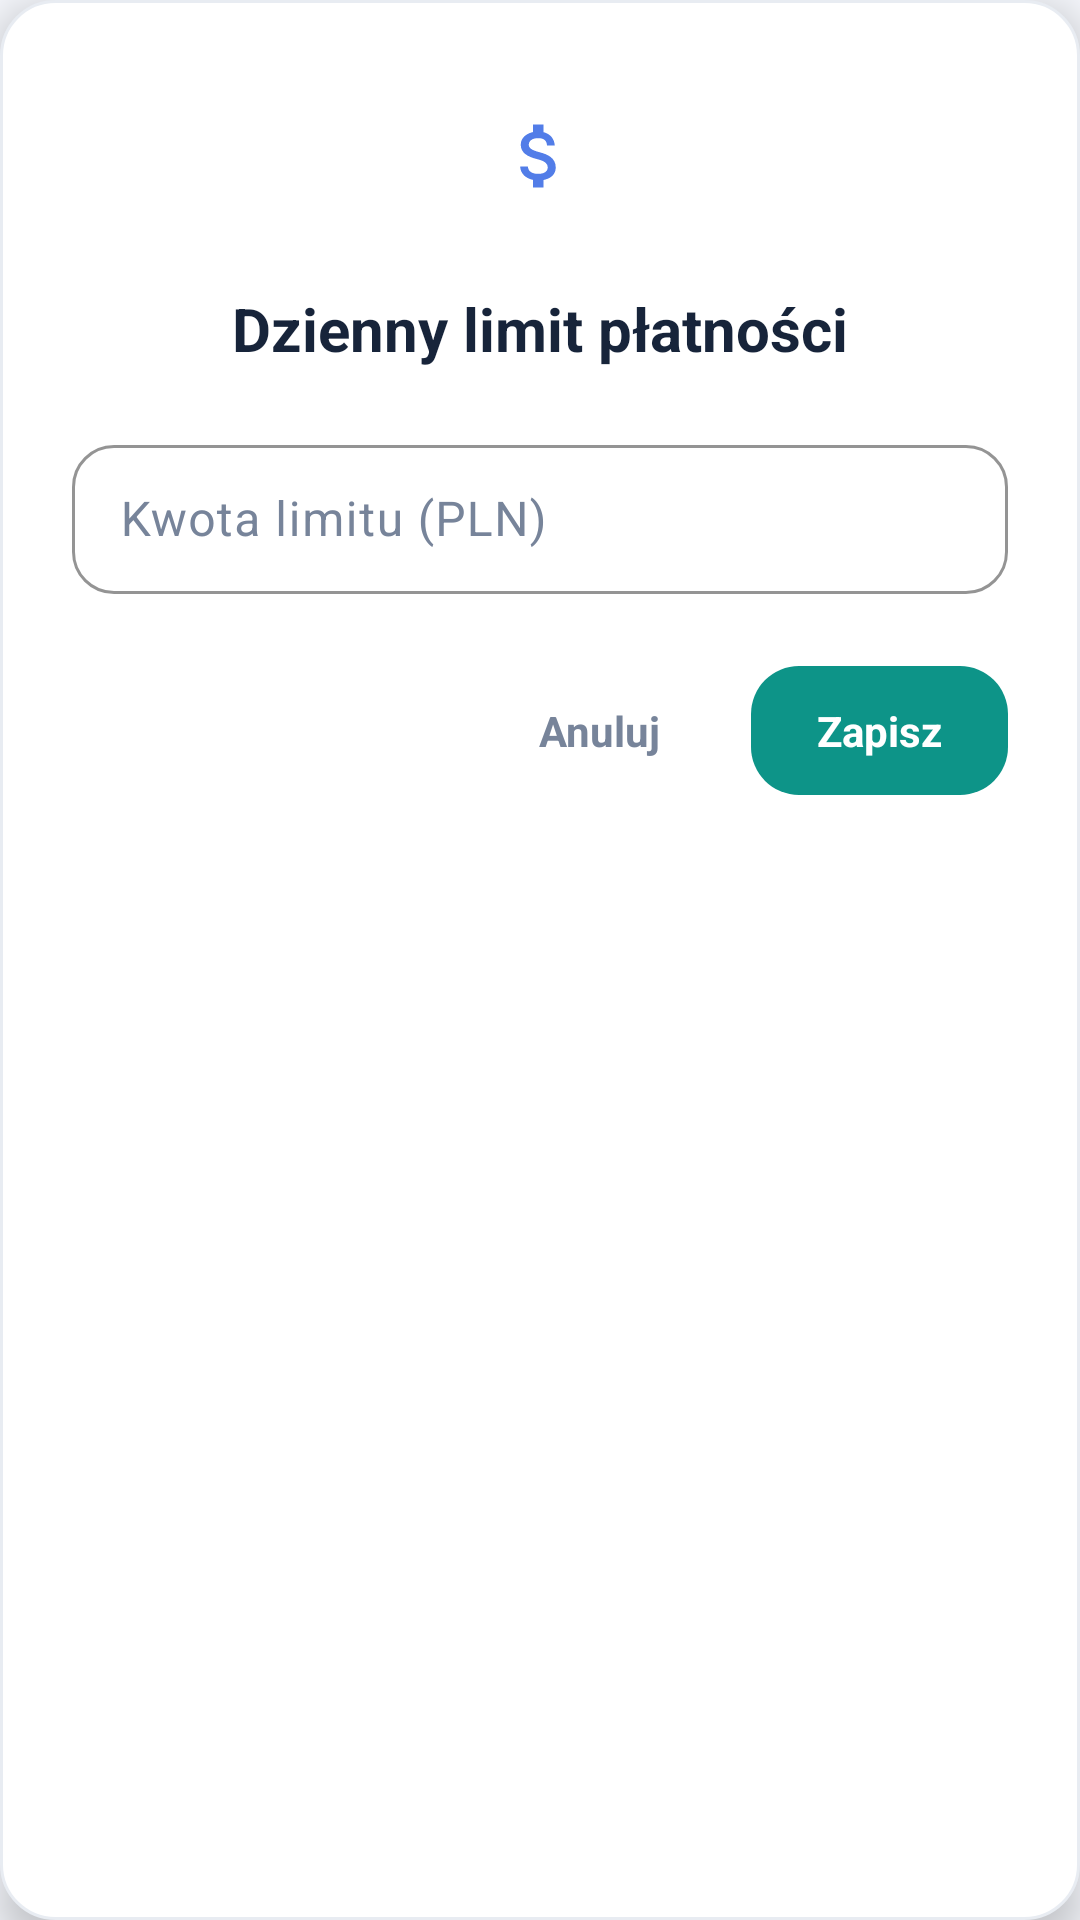

Icon bounding boxes for this 1080x1920 phone screenshot, format (x1, y1, x2, y2):
Ikona limit płatności: (520, 124, 556, 188)
